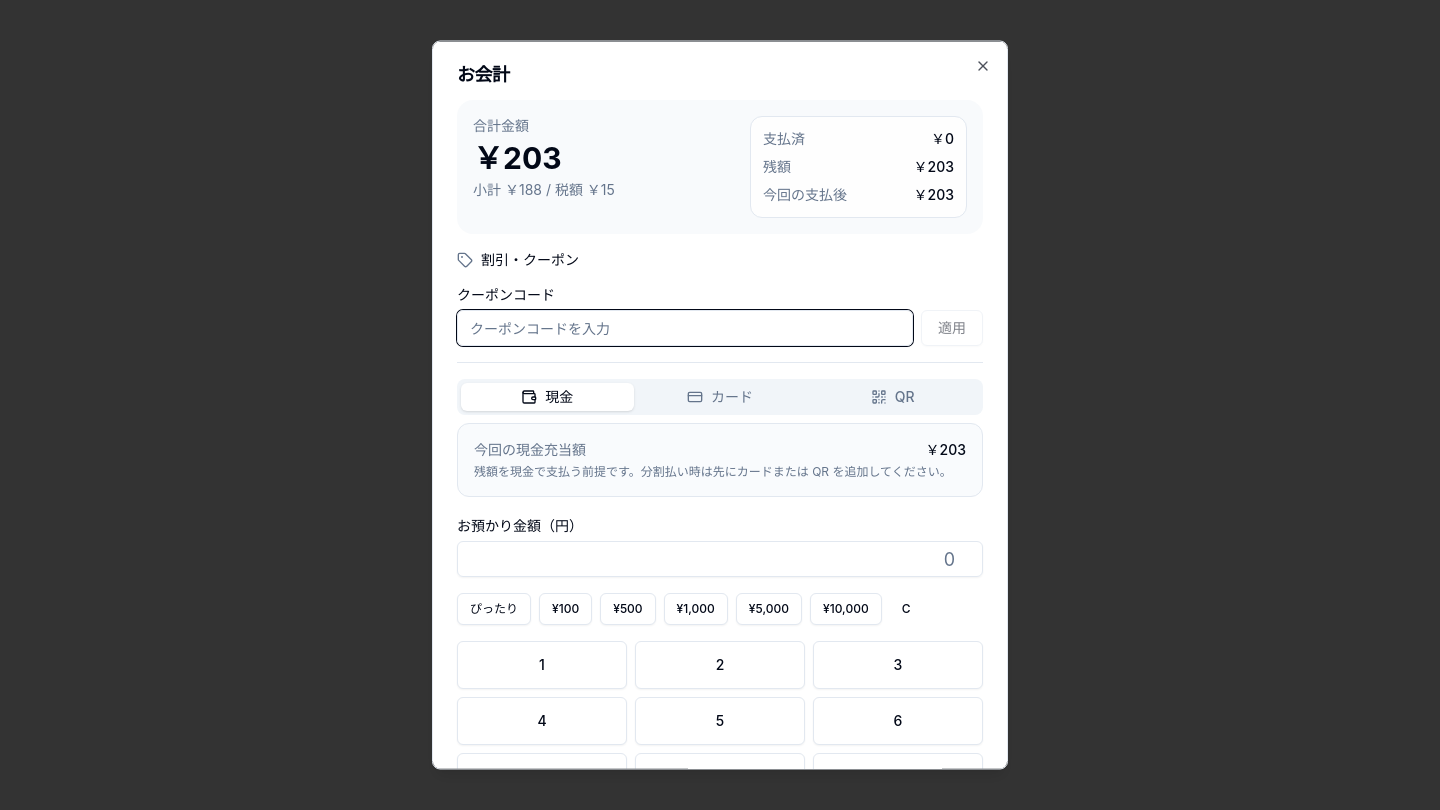
CheckoutDialog › ぴったりボタンは端数税額を切り上げた円額を入力する
This screenshot has width=1440, height=810.
Click the button "ぴったり": (494, 608) [457,592,531,624]
(page scrolled)
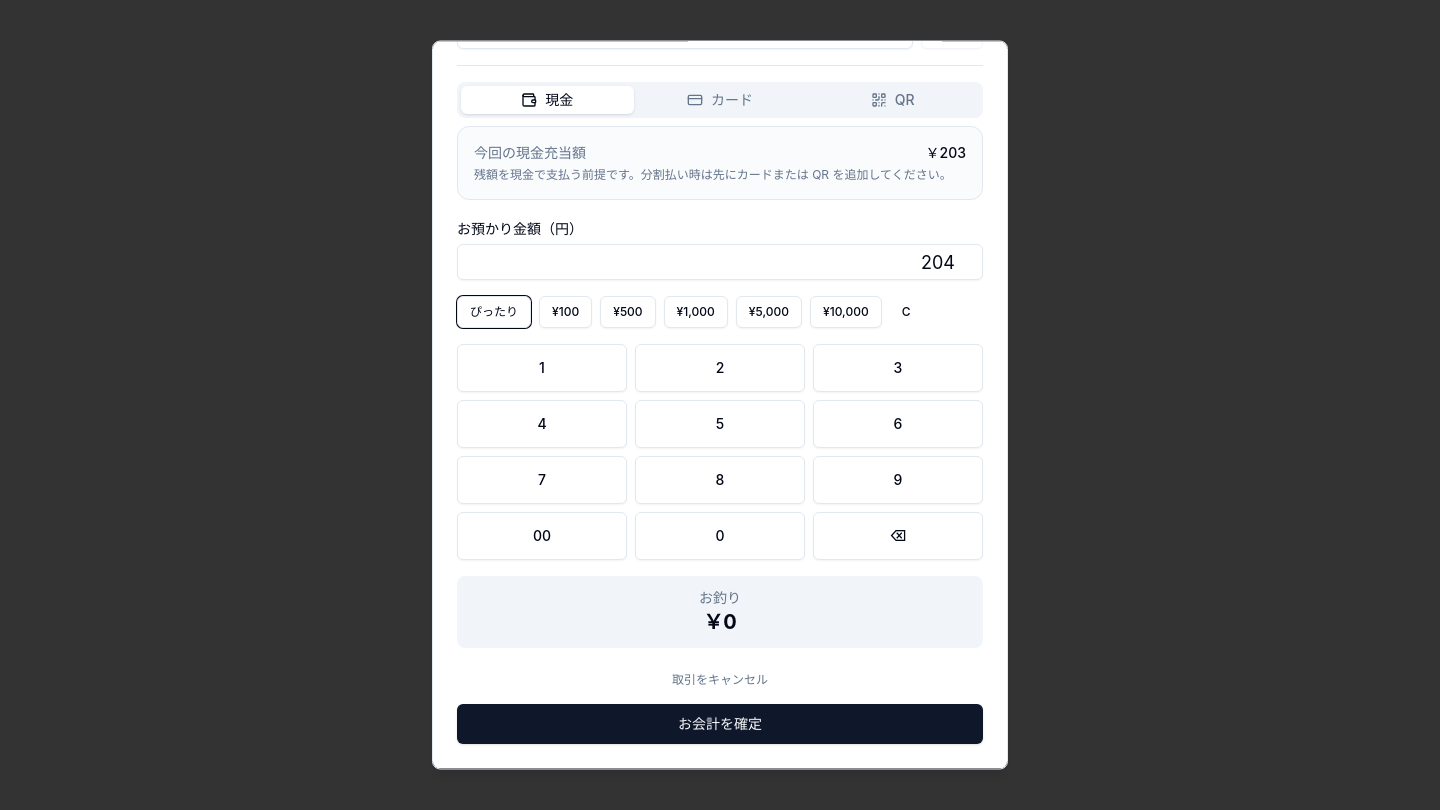
Expected: the number field with placeholder "0" holds "204", [457,244,983,280]
Expected: the button "お会計を確定" is enabled, [457,704,983,744]
